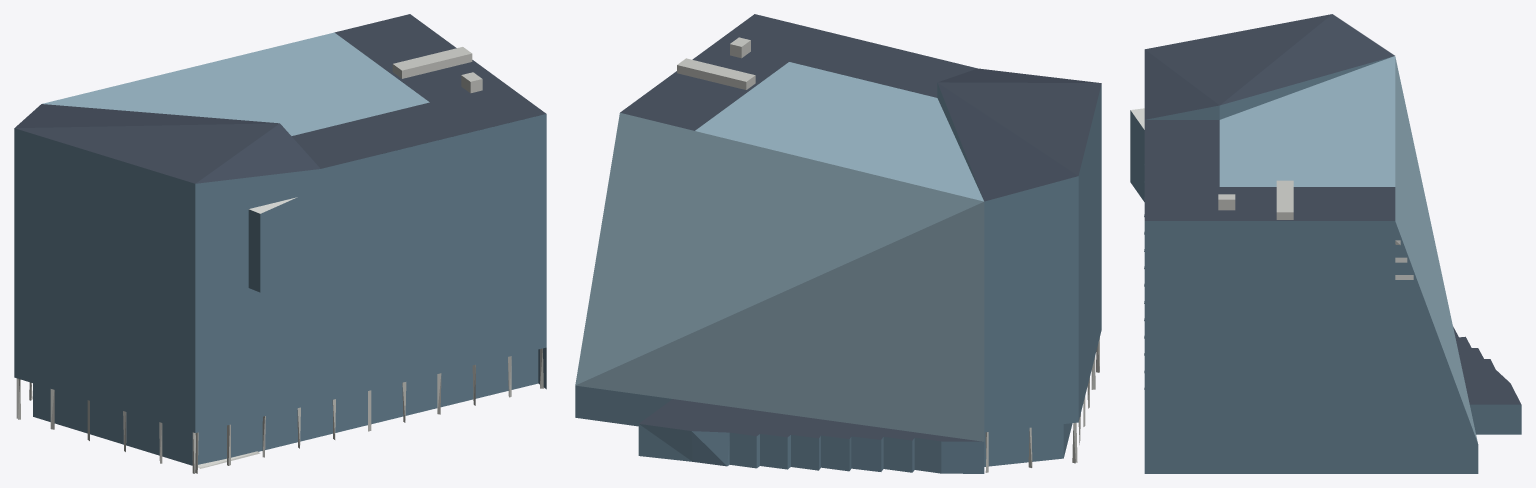
File: the-edge.lod2.glb
The picture shows the model from 3 angles, left to right: view 1: azimuth 30°, elevation 25°; view 2: azimuth 150°, elevation 25°; view 3: azimuth 270°, elevation 25°; orthographic projection. The views are drawn at different scales.
Visible parts, largest first — view 1: lod2; view 2: lod2; view 3: lod2.
Boxes of the visible parts, x1,y1,x2,y2 form: lod2: (14, 14, 546, 473); lod2: (575, 14, 1101, 473); lod2: (1130, 14, 1521, 473).
Bounding box in the file's own units: 85.86 × 55.5 × 73.55.
